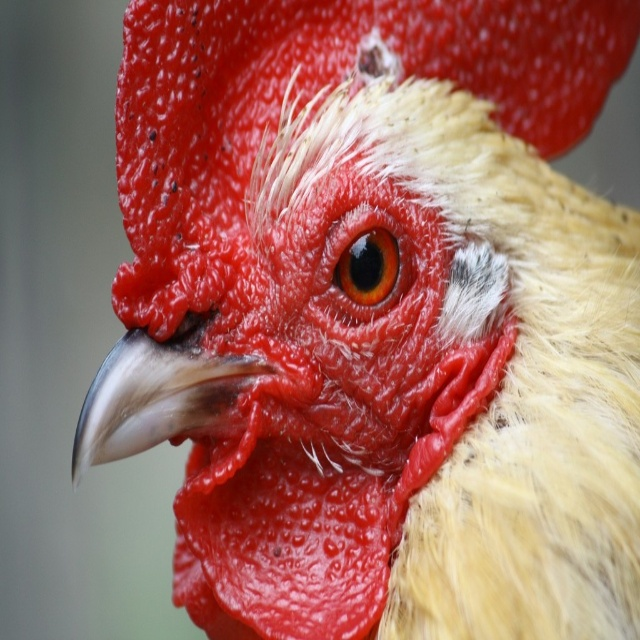Chicken: (71, 0, 640, 640)
